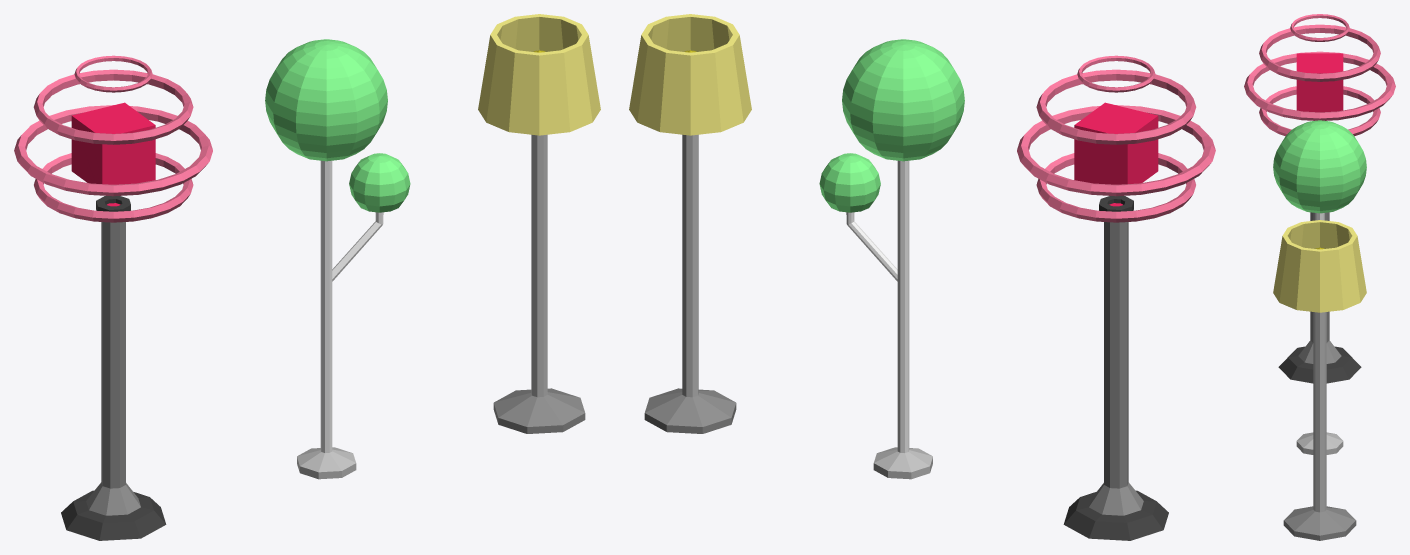
File: lampadas.fbx
3 views of the same model, side by side, from view 1: azimuth 30°, elevation 25°; view 2: azimuth 150°, elevation 25°; view 3: azimuth 270°, elevation 25° (orthographic). The views are drawn at different scales.
Visible parts, largest first — view 1: Lampada3, Lampada2, Lampada1; view 2: Lampada3, Lampada2, Lampada1; view 3: Lampada1, Lampada3, Lampada2.
Boxes of the visible parts, x1=… form: Lampada3: x1=14, y1=55, x2=212, y2=540; Lampada2: x1=265, y1=39, x2=410, y2=479; Lampada1: x1=478, y1=14, x2=600, y2=433; Lampada3: x1=1017, y1=55, x2=1215, y2=540; Lampada2: x1=819, y1=39, x2=964, y2=479; Lampada1: x1=629, y1=14, x2=751, y2=433; Lampada1: x1=1273, y1=220, x2=1366, y2=540; Lampada3: x1=1244, y1=14, x2=1395, y2=383; Lampada2: x1=1273, y1=120, x2=1366, y2=454.
Bounding box in the file's own units: 531 × 401 × 162.
